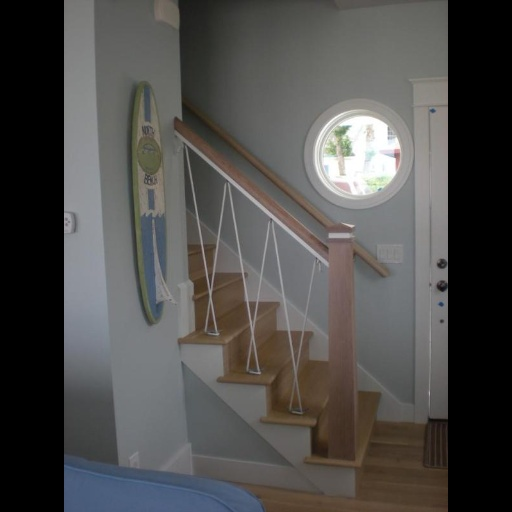Stairs: (179, 246, 380, 496)
